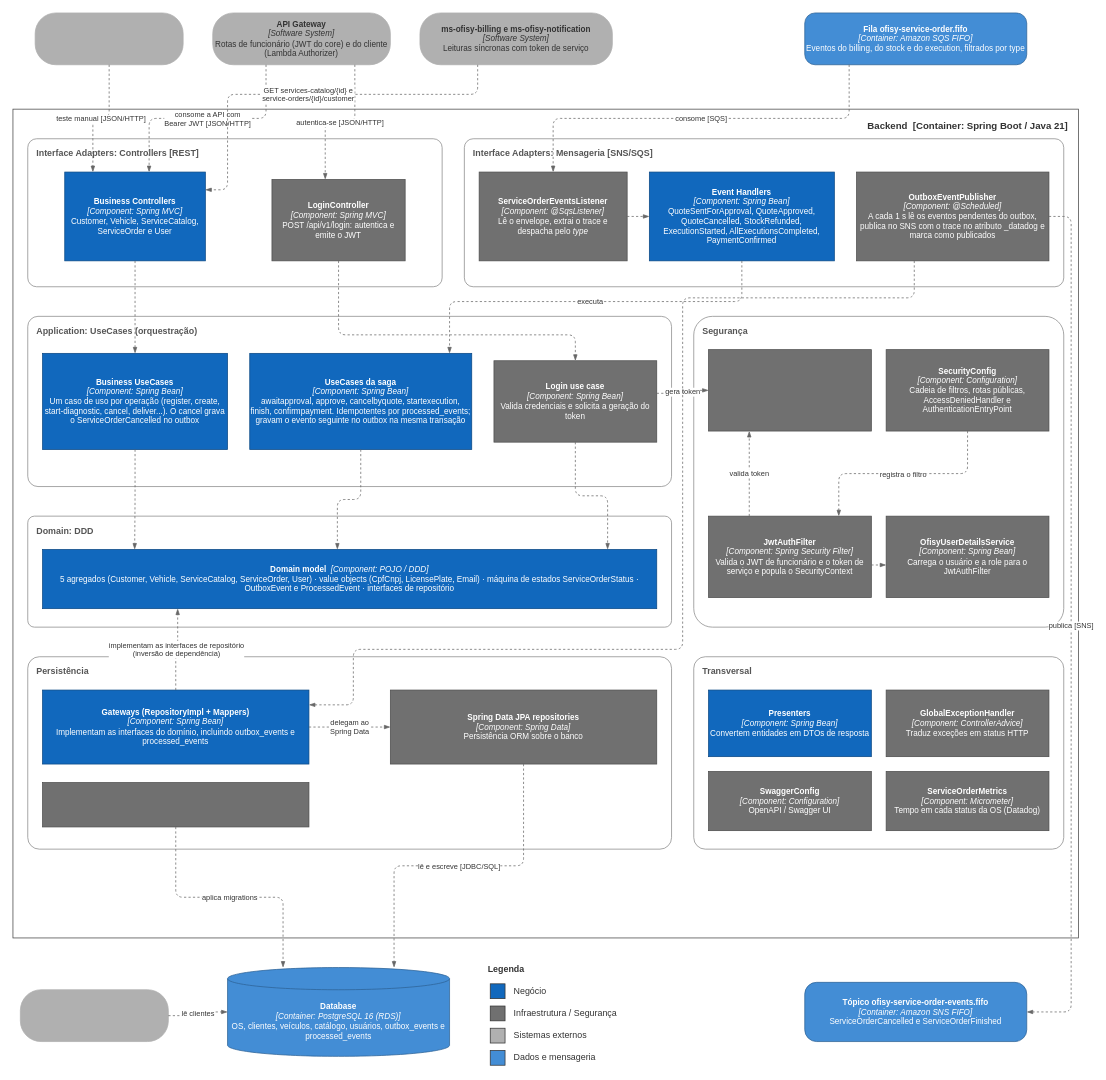
Some shapes in this 1106 by 1080 pixel diagram are drawn without their labels. The shapes that lost their labels are listed below. From the top down, each one's centre as x and y in pixels, then its label:
At [108,38]: "Swagger UI [Software System] Documentação e testes manuais das rotas".
At [789,390]: "JwtService [Component: Spring Bean] Gera e valida JWTs (jjwt) com JwtProperties".
At [175,804]: "Flyway [Component] migrations (schema e seeds), aplicadas no start".
At [94,1015]: "Lambda Ofisy Auth [Software System] Autentica o cliente por CPF/CNPJ".
